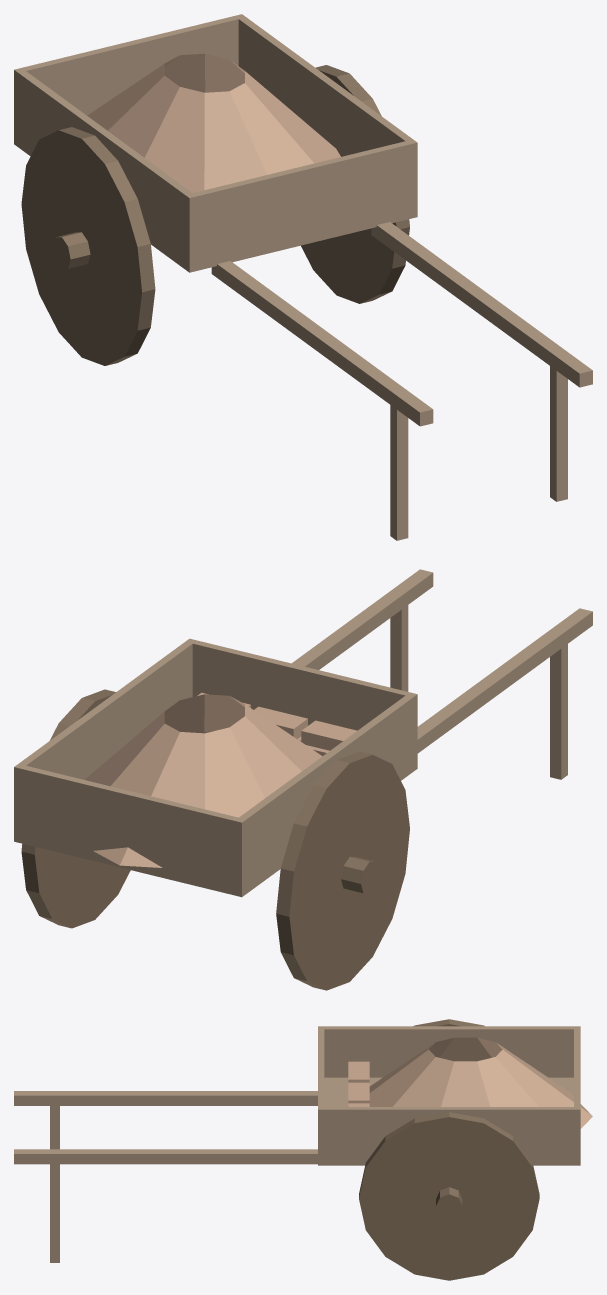
Rendered from claycart.glb.
3 views of the same model, one above another, from view 1: azimuth 30°, elevation 25°; view 2: azimuth 150°, elevation 25°; view 3: azimuth 270°, elevation 25° (orthographic). The views are drawn at different scales.
Parts seen in each view (by area): view 1: claycart, claycart_wheels, claycart_load; view 2: claycart, claycart_wheels, claycart_load, claycart_bricks; view 3: claycart, claycart_wheels, claycart_load, claycart_bricks.
Boxes of the visible parts, left/top/right/bottom form: claycart: left=14, top=14, right=592, bottom=540; claycart_wheels: left=21, top=65, right=409, bottom=365; claycart_load: left=87, top=53, right=340, bottom=192; claycart: left=14, top=569, right=592, bottom=897; claycart_wheels: left=21, top=689, right=409, bottom=990; claycart_load: left=85, top=694, right=322, bottom=867; claycart_bricks: left=197, top=692, right=356, bottom=755; claycart: left=14, top=1026, right=580, bottom=1262; claycart_wheels: left=359, top=1019, right=539, bottom=1280; claycart_load: left=348, top=1037, right=592, bottom=1128; claycart_bricks: left=348, top=1061, right=369, bottom=1106.
Bounding box in the file's own units: 1.62 × 1.23 × 3.53.
